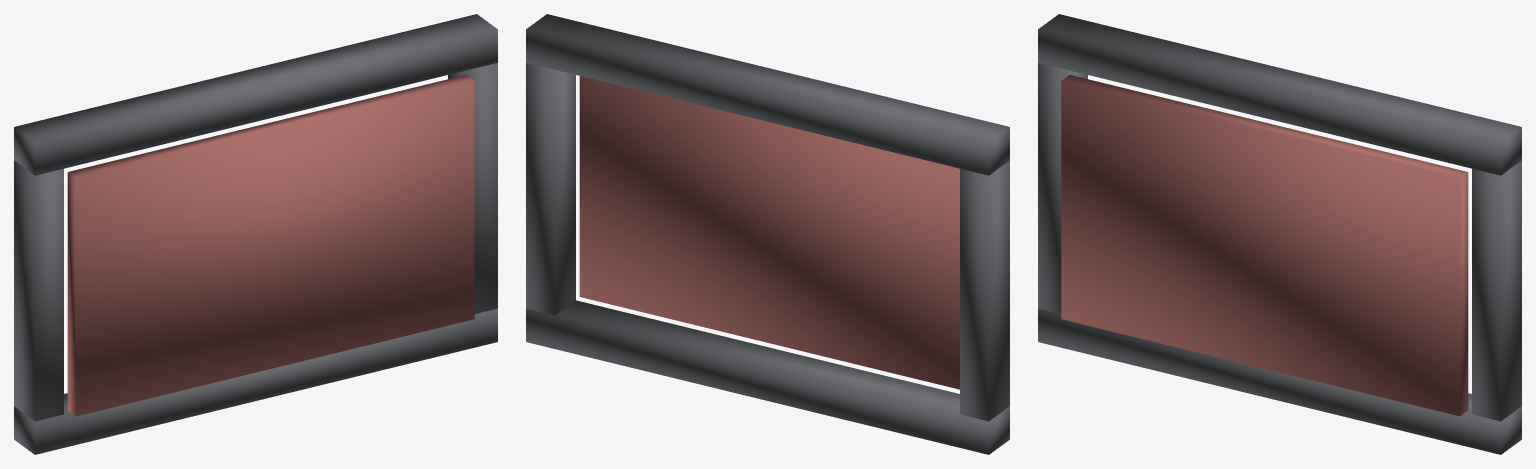
Rendered from on_air_wall_sign__compact.glb.
The picture shows the model from 3 angles, left to right: view 1: azimuth 30°, elevation 25°; view 2: azimuth 150°, elevation 25°; view 3: azimuth 330°, elevation 25°; orthographic projection.
Parts seen in each view (by area): view 1: world; view 2: world; view 3: world.
Boxes of the visible parts, x1,y1,x2,y2 form: world: (14, 14, 497, 454); world: (526, 14, 1009, 454); world: (1038, 14, 1521, 454).
Bounding box in the file's own units: 0.6048 × 0.3906 × 0.0675.
